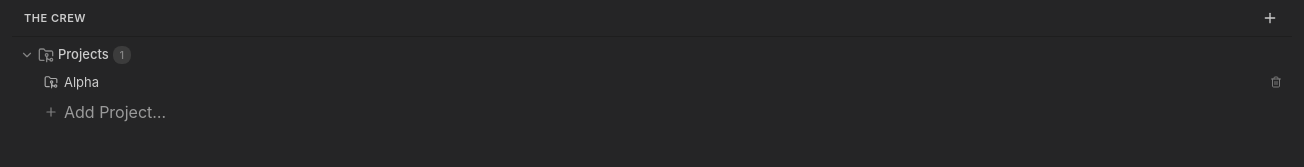
Test: CrewSidebar › handles non-Error thrown values in addProject catch block
This screenshot has width=1304, height=167.
Expected: the text "Alpha" is shown, x1=64 y1=74 x2=99 y2=90
Click the button titled "Add Project" at (1270, 18), box x1=1260 y1=8 x2=1280 y2=28
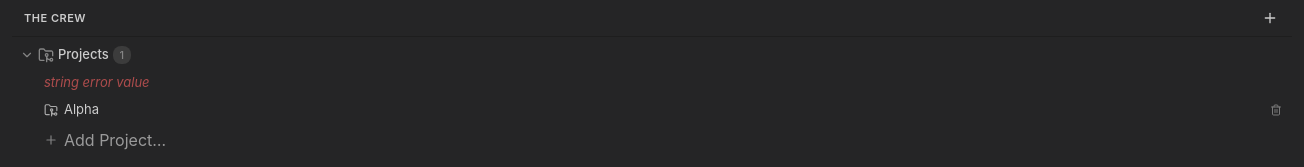
Expected: the message reads "string error value", x1=44 y1=74 x2=150 y2=90
